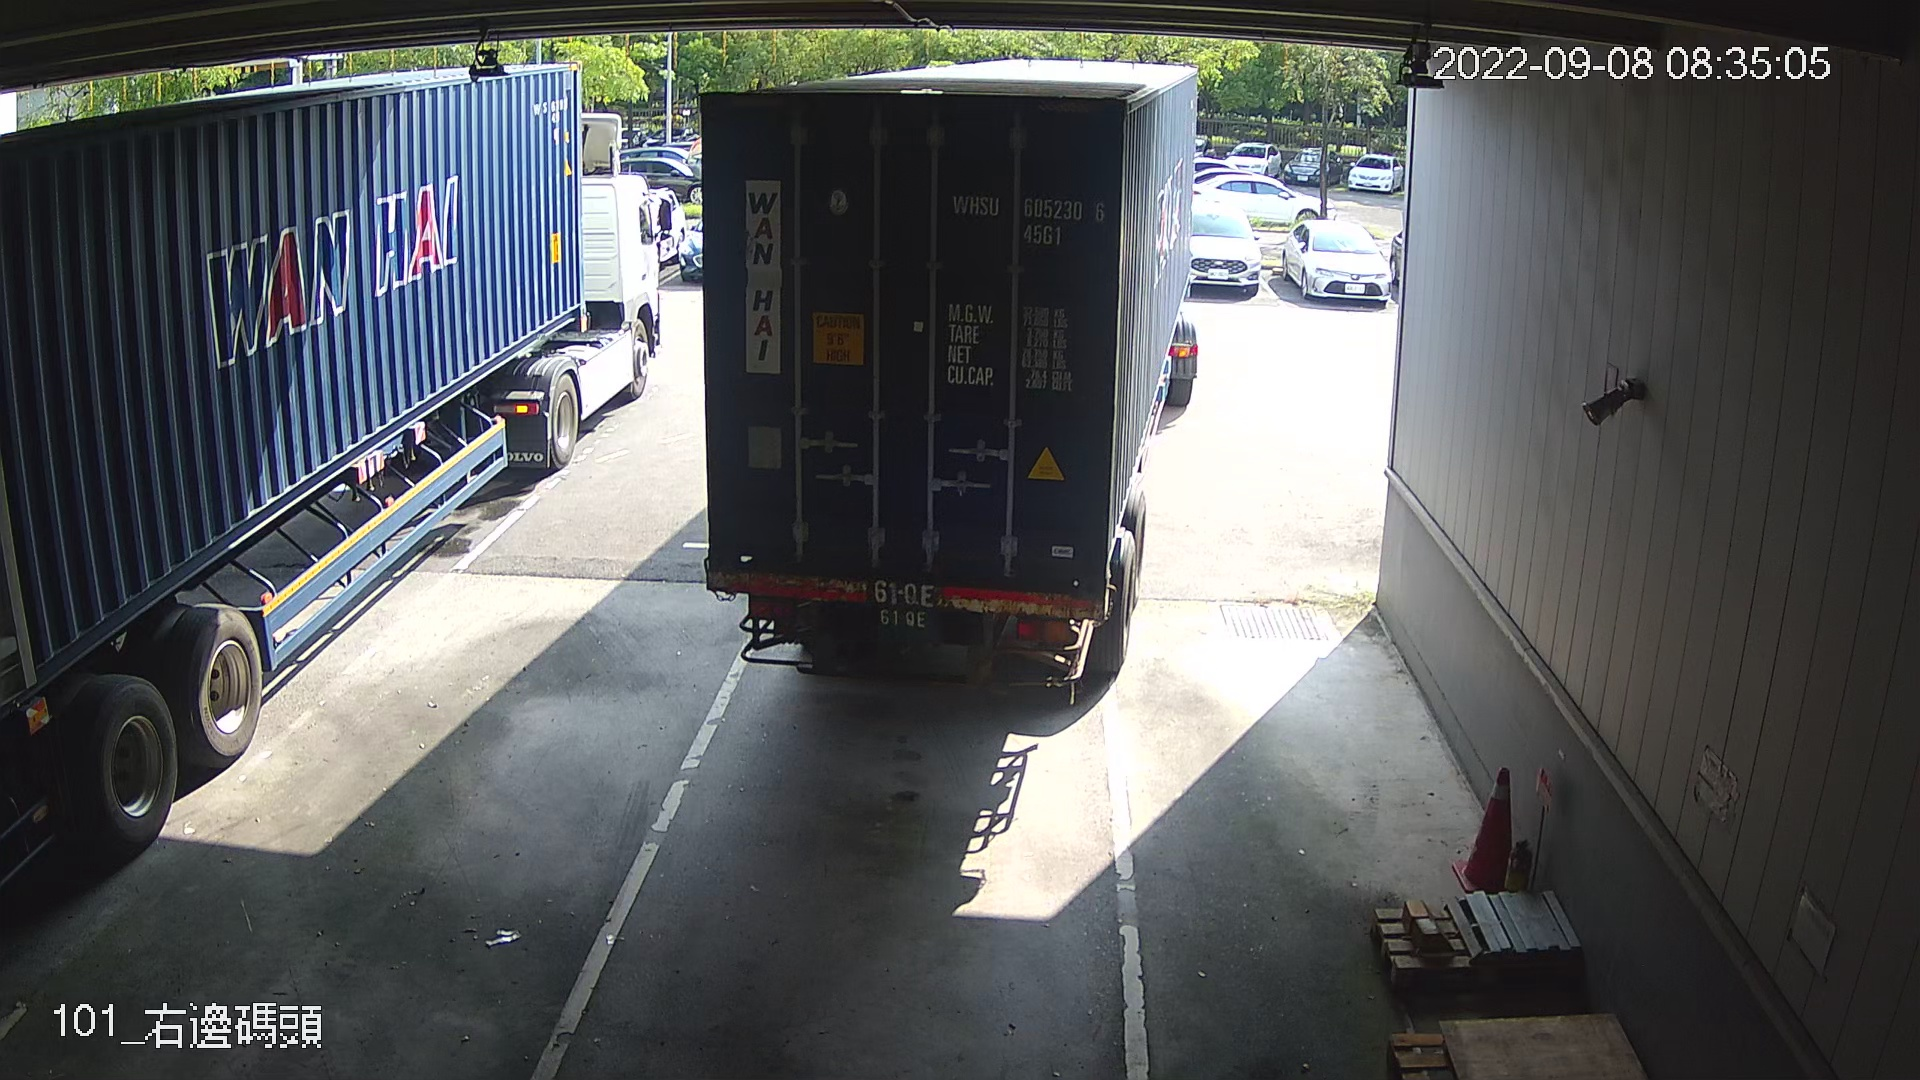container: (942, 185, 1114, 252)
